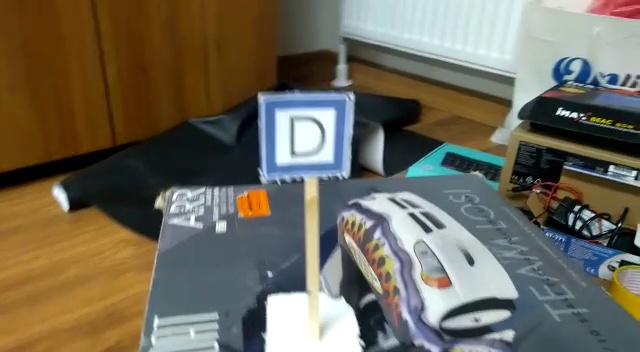durak: (264, 101, 346, 172)
